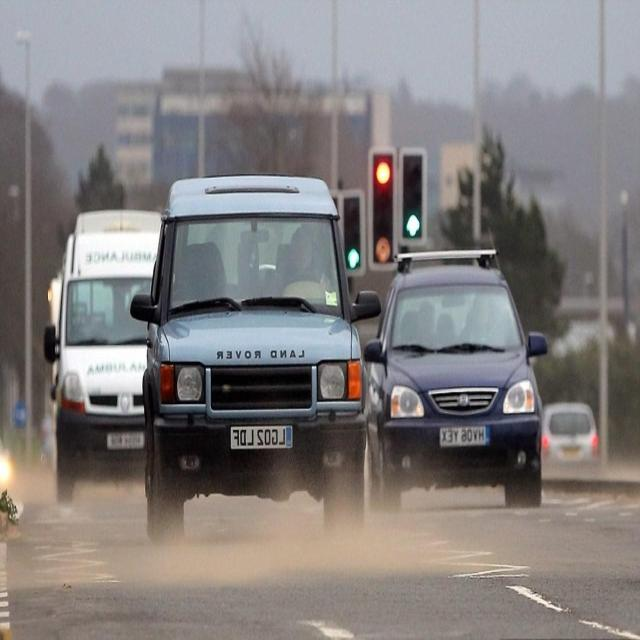Car: (143, 170, 365, 533), (369, 245, 545, 507), (542, 394, 600, 479)
